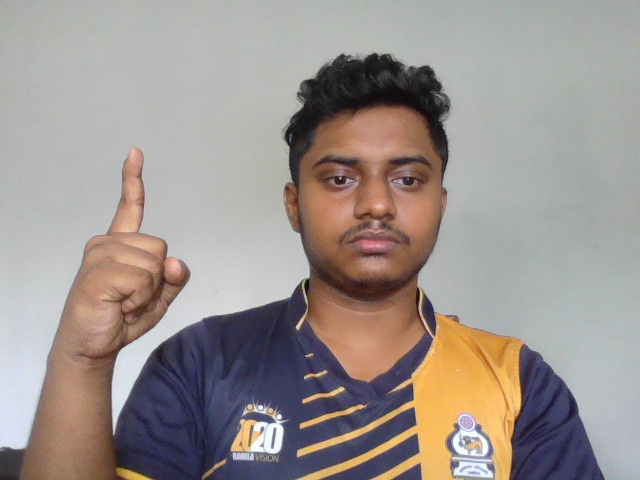Me: (56, 146, 194, 363)
